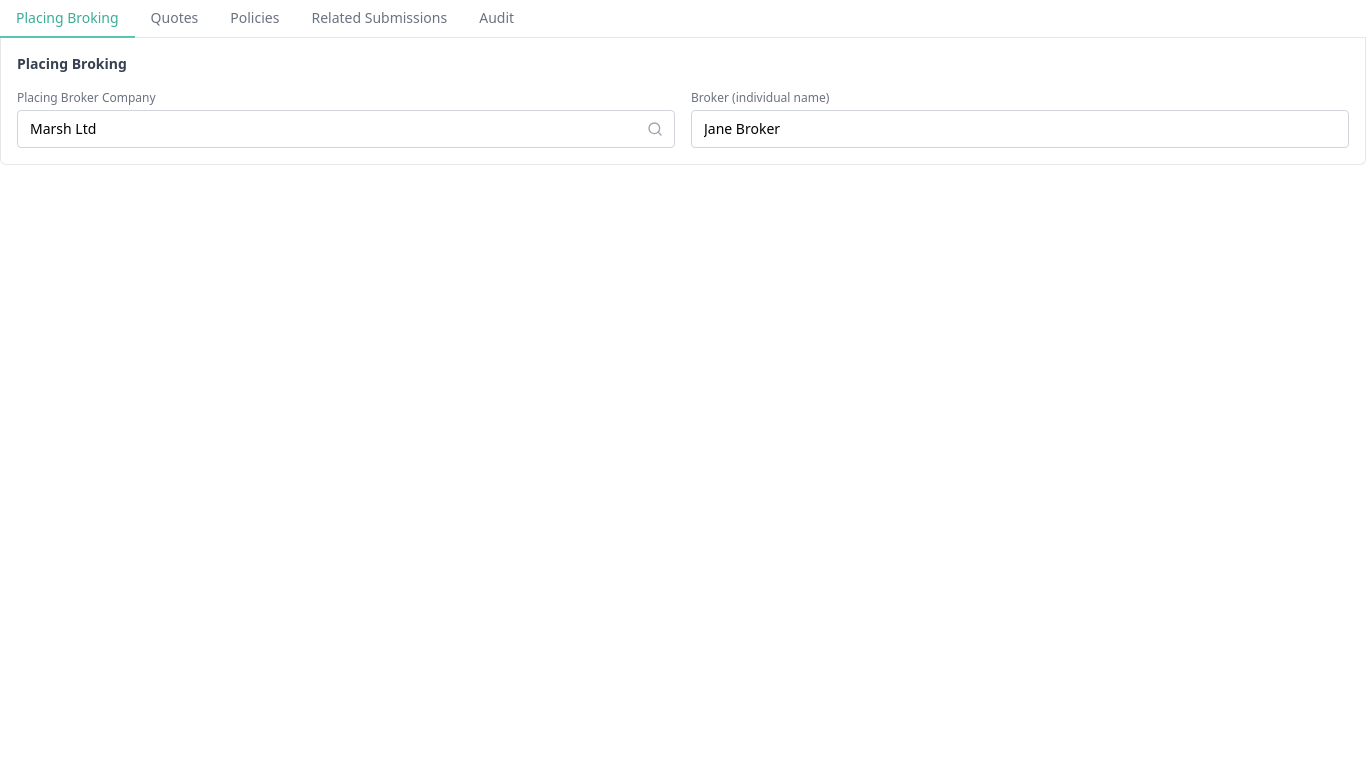
Test: R06 - Placing Broking pane › T-TABS-R06d: opens the broker search modal when the search button is clicked
Click the button named "Search parties".
click(661, 129)  # box [647,110,675,148]
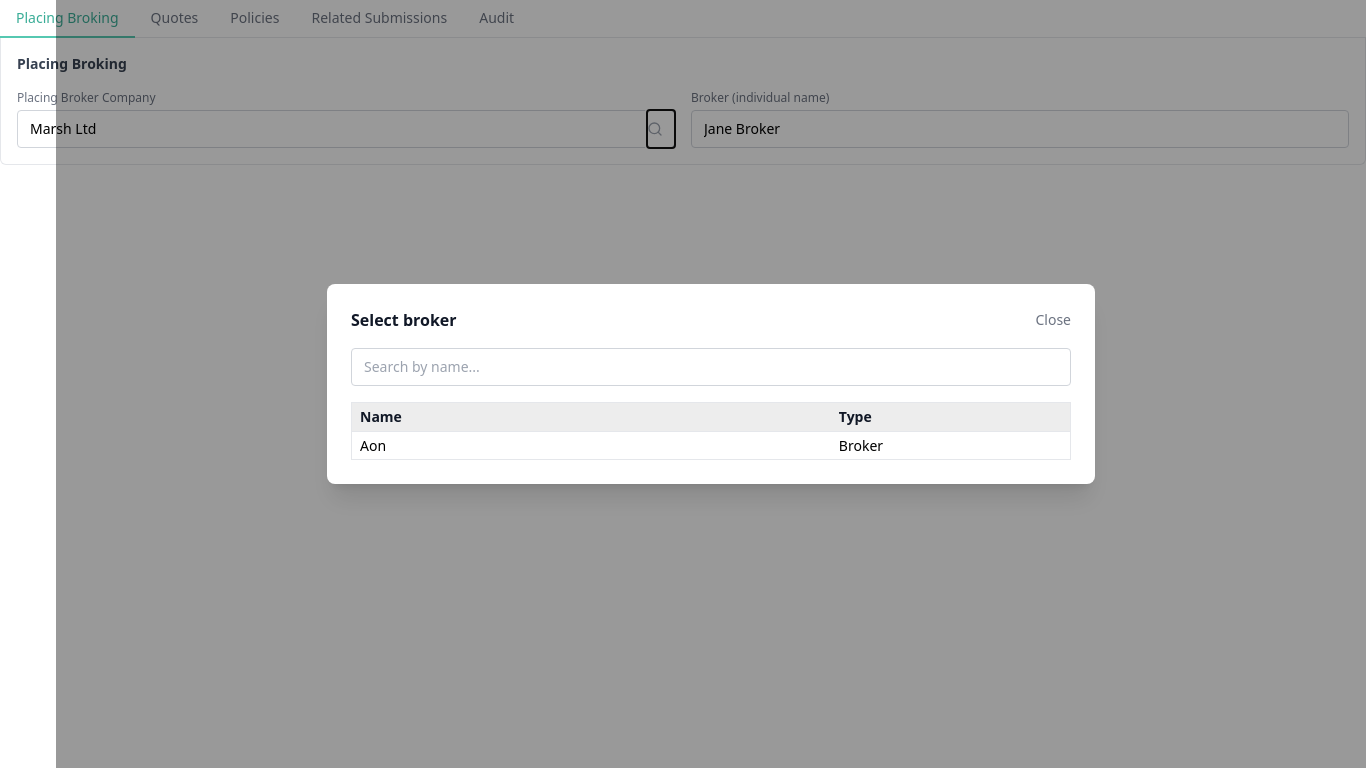
Result: the dialog "Select broker" is shown
